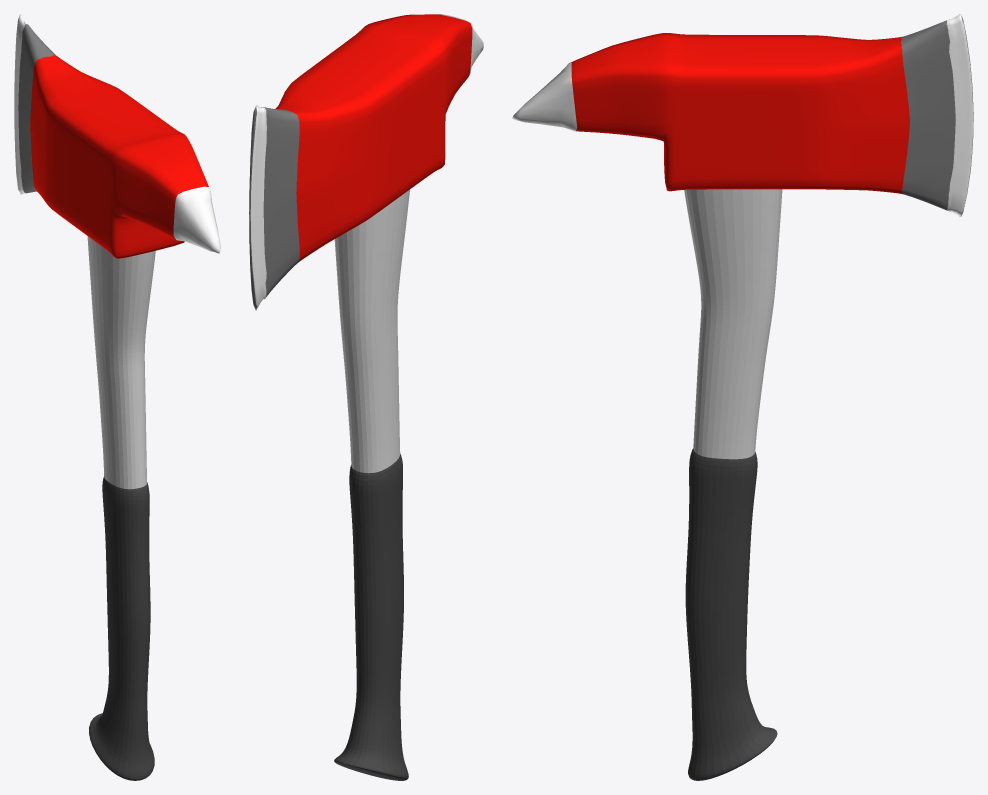
The model's file is fire_axe.fbx.
3 views of the same model, side by side, from view 1: azimuth 30°, elevation 25°; view 2: azimuth 150°, elevation 25°; view 3: azimuth 270°, elevation 25° (orthographic). The views are drawn at different scales.
Visible parts, largest first — view 1: FireAxe; view 2: FireAxe; view 3: FireAxe.
Part boxes in pixels (x1=…): FireAxe: x1=14, y1=14, x2=220, y2=780; FireAxe: x1=249, y1=14, x2=483, y2=780; FireAxe: x1=512, y1=14, x2=973, y2=780.
Size of the model in its own units: 8.3 by 72 by 39.46.
